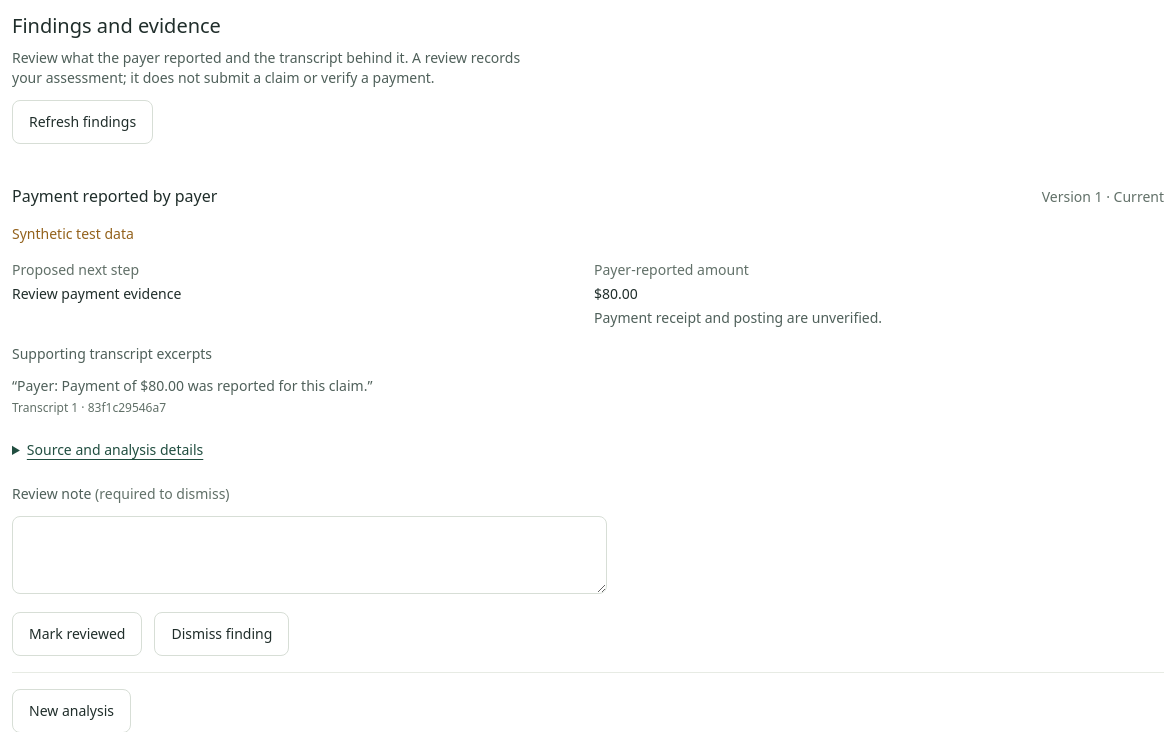
Versioned claim observations › refreshes stale evidence after a rejected review and does not claim success
This screenshot has width=1176, height=732.
Click the button "Mark reviewed": {"x": 77, "y": 634} 12,612 -> 142,656
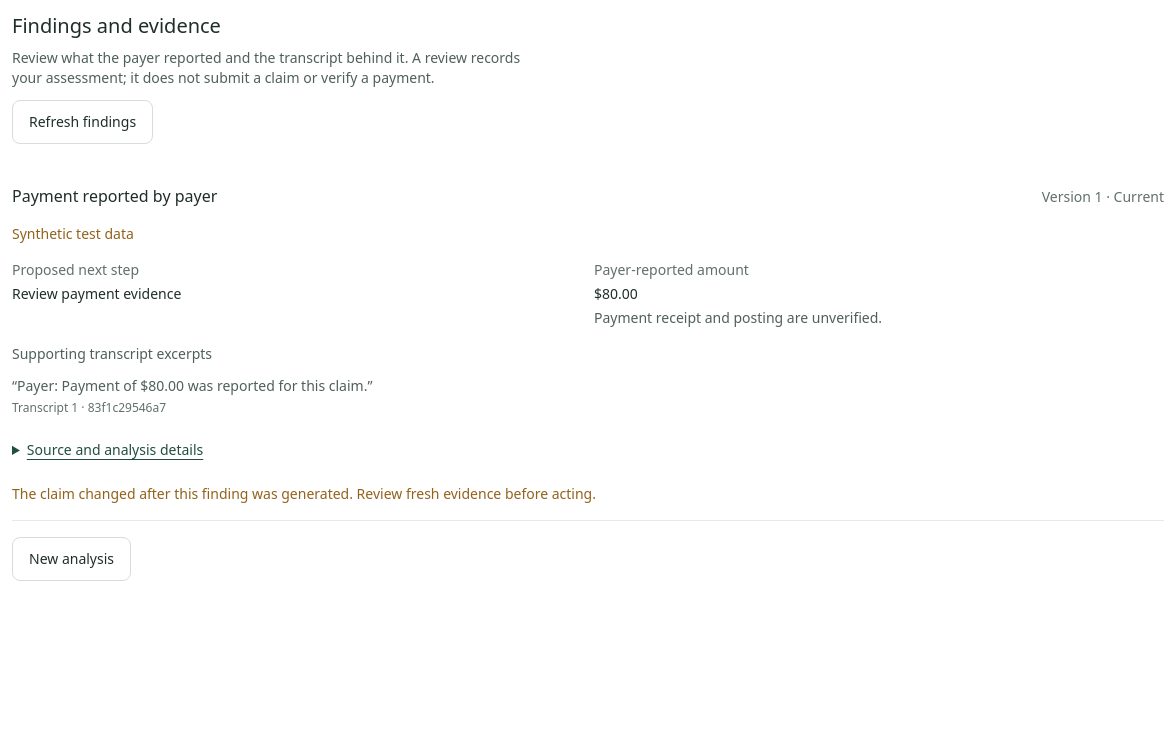
Now the text "The claim changed after this finding" is shown, box 12,484 -> 596,503
